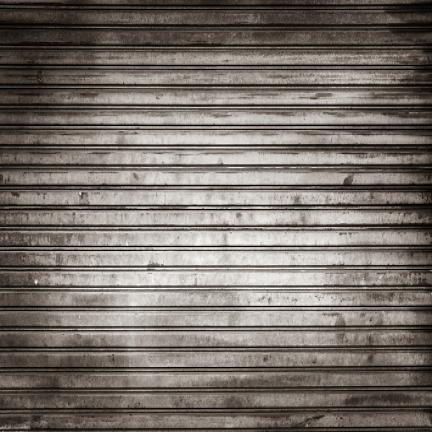besi_tidak_karat: (1, 3, 432, 432)
